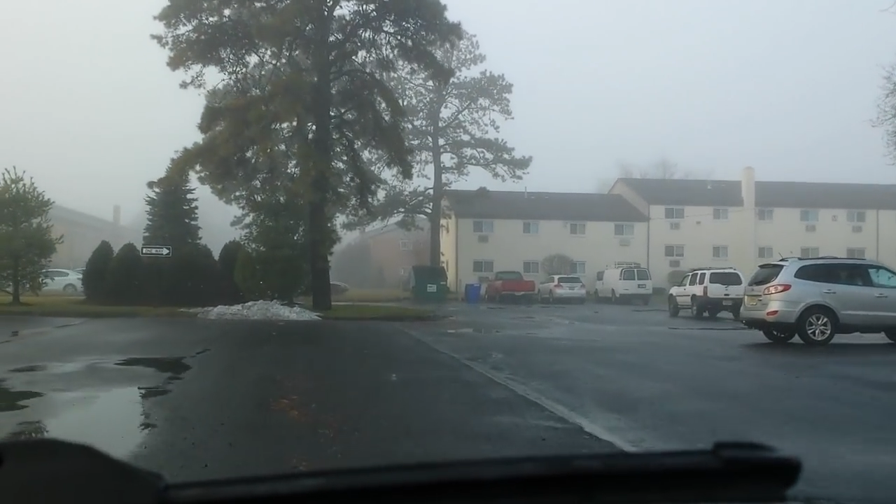car: (742, 249, 896, 346), (666, 265, 747, 318), (8, 266, 91, 297), (592, 268, 654, 307), (479, 268, 538, 304), (534, 273, 588, 307)
